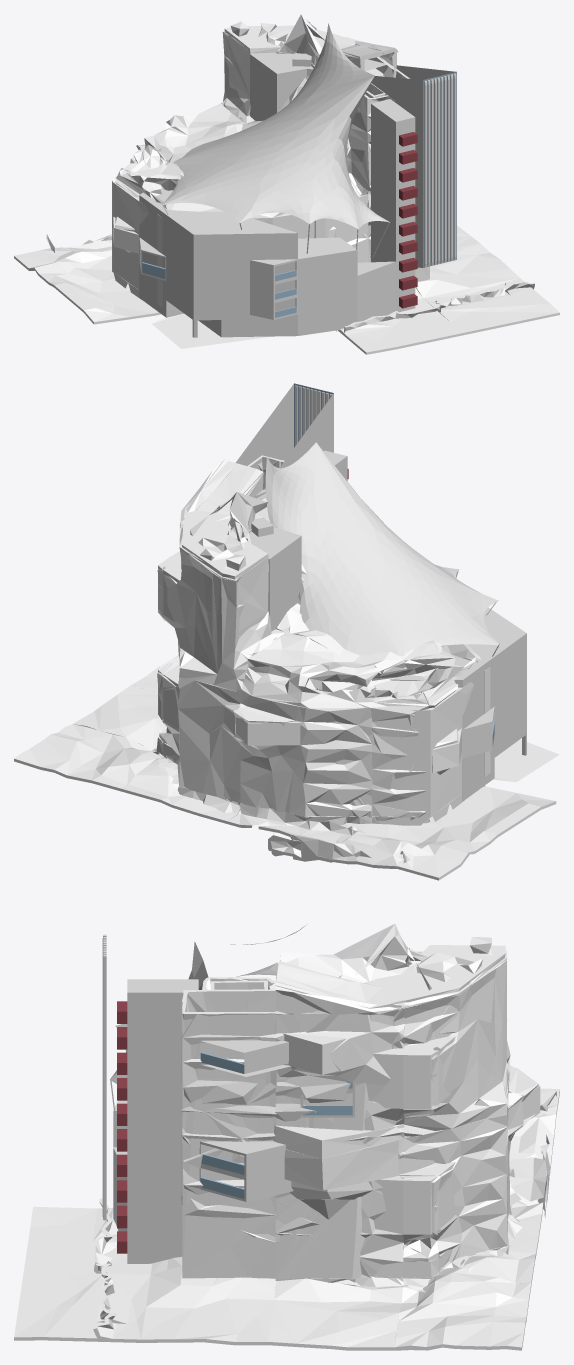
File: FAE.glb
3 renders of one model, top to bottom at view 1: azimuth 30°, elevation 25°; view 2: azimuth 150°, elevation 25°; view 3: azimuth 270°, elevation 25°, orthographic. The views are drawn at different scales.
Visible parts, largest first — view 1: BuildingMesh-00102, Cube, Polygon.005, Cube.001, Cube.006, Cube.002, Cube.004; view 2: BuildingMesh-00102, Polygon.005, Cube, Cube.001; view 3: BuildingMesh-00102, Cube, Cube.002, Cube.004, Cube.001, Polygon.005.
Boxes of the visible parts, x1,y1,x2,y2 form: BuildingMesh-00102: [14, 14, 559, 354]; Cube: [139, 52, 456, 337]; Polygon.005: [162, 23, 389, 229]; Cube.001: [424, 73, 456, 267]; Cube.006: [423, 72, 456, 267]; Cube.002: [399, 132, 417, 308]; Cube.004: [142, 262, 296, 317]; BuildingMesh-00102: [14, 455, 559, 880]; Polygon.005: [265, 442, 499, 668]; Cube: [235, 384, 526, 801]; Cube.001: [295, 385, 332, 445]; BuildingMesh-00102: [14, 924, 559, 1350]; Cube: [113, 951, 422, 1286]; Cube.002: [117, 1001, 127, 1253]; Cube.004: [200, 1052, 352, 1198]; Cube.001: [102, 934, 106, 1220]; Polygon.005: [110, 926, 304, 1083].
Bounding box in the file's own units: 2.43 × 1.65 × 2.12.
